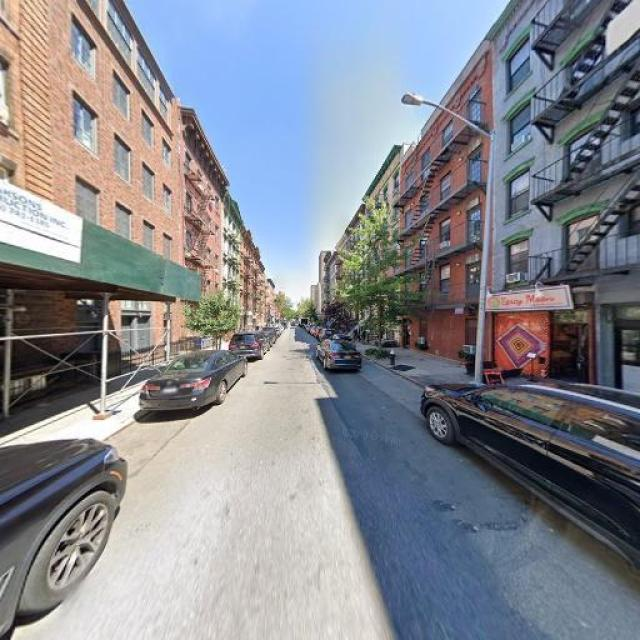Building: (494, 1, 640, 407), (55, 1, 178, 383), (402, 33, 489, 369), (1, 1, 48, 399)
